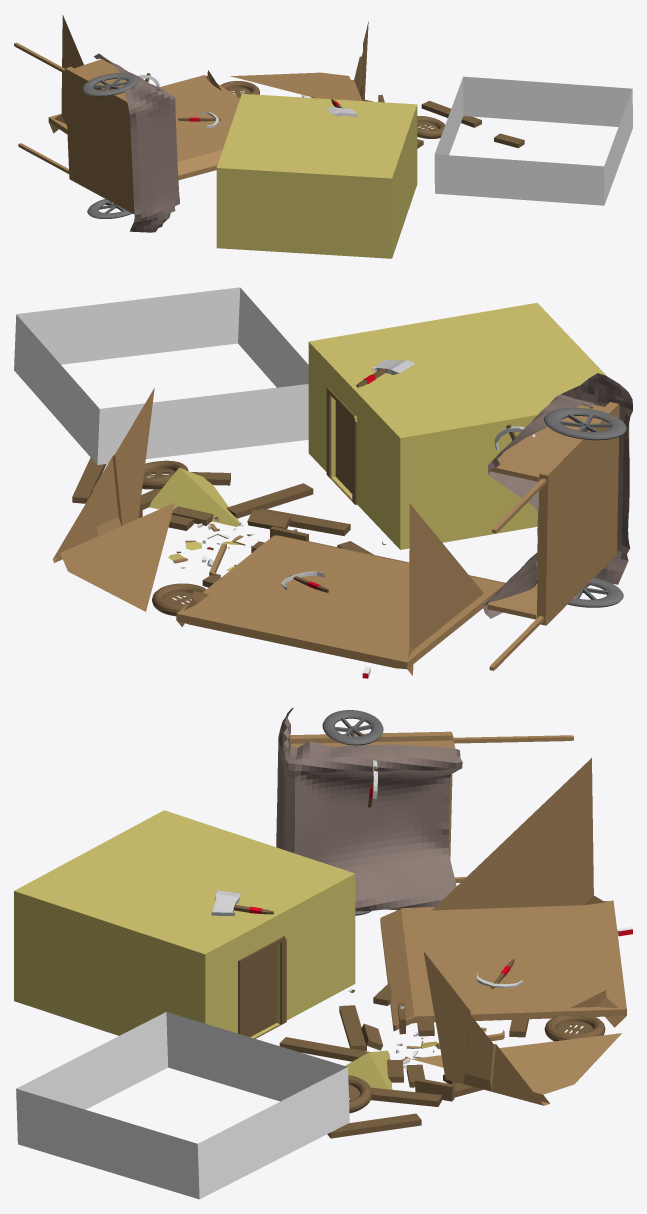
Rendered from casa das tropas (coleta) quebrada.fbx.
The picture shows the model from 3 angles, top to bottom: view 1: azimuth 30°, elevation 25°; view 2: azimuth 150°, elevation 25°; view 3: azimuth 270°, elevation 25°; orthographic projection. The views are drawn at different scales.
Visible parts, largest first — view 1: Torus.003_cell.035, Plane, Torus.003_cell.036, Torus.003_cell.001, Torus.003_cell.003, Torus.003_cell.006, Torus.003_cell.007, Torus.003_cell.025; view 2: Torus.003_cell.035, Torus.003_cell.036, Torus.003_cell.001, Plane, Torus.003_cell.003, Torus.003_cell.002, Torus.003_cell.010, Torus.003_cell.025, Torus.003_cell.026, Torus.003_cell.006, Torus.003_cell.007, Torus.003_cell.038 (+1 smaller); view 3: Torus.003_cell.035, Torus.003_cell.001, Torus.003_cell.036, Plane, Torus.003_cell.003, Torus.003_cell.025, Torus.003_cell.002, Torus.003_cell.007, Torus.003_cell.010, Torus.003_cell.039, Cube.010, Torus.003_cell.026 (+1 smaller).
Part boxes in pixels (x1,y1,x2,y2): Torus.003_cell.035: [216, 93, 417, 258]; Plane: [14, 42, 179, 232]; Torus.003_cell.036: [434, 76, 632, 205]; Torus.003_cell.001: [48, 15, 239, 179]; Torus.003_cell.003: [230, 21, 368, 101]; Torus.003_cell.006: [417, 116, 445, 138]; Torus.003_cell.007: [421, 100, 481, 127]; Torus.003_cell.025: [220, 81, 259, 98]; Torus.003_cell.035: [308, 302, 629, 549]; Torus.003_cell.036: [14, 287, 308, 464]; Torus.003_cell.001: [176, 503, 505, 675]; Plane: [483, 373, 632, 670]; Torus.003_cell.003: [52, 388, 174, 611]; Torus.003_cell.002: [149, 467, 239, 526]; Torus.003_cell.010: [226, 483, 313, 518]; Torus.003_cell.025: [152, 583, 206, 616]; Torus.003_cell.026: [259, 508, 350, 535]; Torus.003_cell.006: [142, 460, 188, 489]; Torus.003_cell.007: [72, 457, 106, 503]; Torus.003_cell.038: [247, 509, 291, 529]; Torus.003_cell.035: [14, 810, 355, 1038]; Torus.003_cell.001: [380, 758, 626, 1030]; Torus.003_cell.036: [16, 1012, 349, 1199]; Plane: [276, 707, 573, 915]; Torus.003_cell.003: [411, 951, 621, 1105]; Torus.003_cell.025: [544, 1015, 605, 1041]; Torus.003_cell.002: [345, 1050, 392, 1089]; Torus.003_cell.007: [327, 1113, 421, 1138]; Torus.003_cell.010: [279, 1037, 370, 1061]; Torus.003_cell.039: [349, 1087, 441, 1106]; Cube.010: [211, 890, 273, 915]; Torus.003_cell.026: [339, 1005, 366, 1050].
Bounding box in the file's own units: 643 × 187 × 509.
